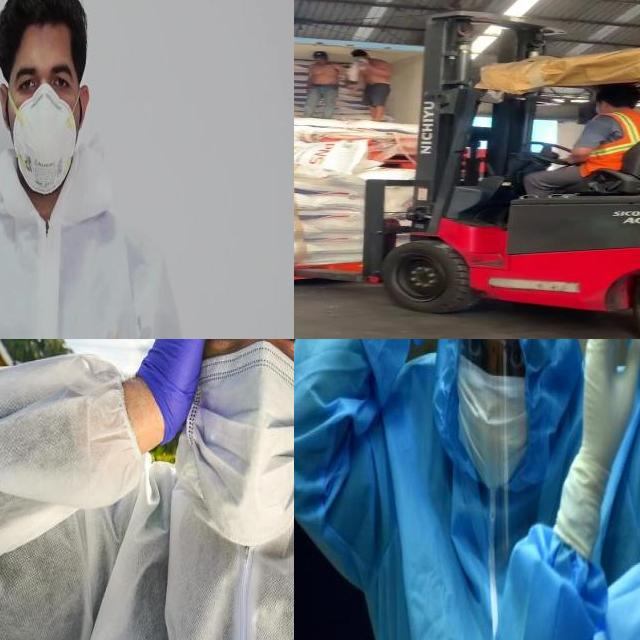Glove: (138, 339, 251, 452), (554, 339, 640, 465)
MASK: (196, 345, 294, 543), (457, 352, 527, 486), (12, 83, 76, 197)
